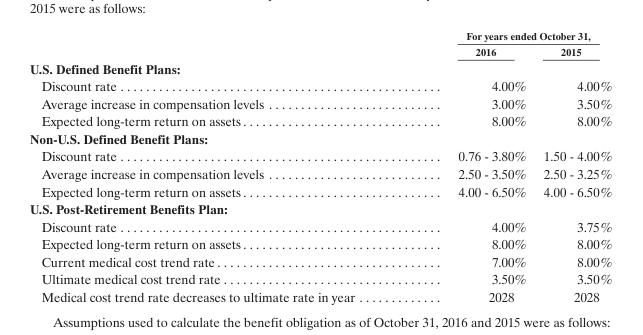table: (29, 28, 611, 304)
table column: (29, 28, 405, 304), (405, 28, 534, 304), (534, 28, 611, 304)
table column header: (29, 28, 611, 58)
table projected row header: (29, 58, 611, 76), (29, 129, 611, 146), (29, 199, 611, 216)
table row: (29, 58, 611, 76), (29, 93, 611, 111), (29, 111, 611, 129), (29, 146, 611, 164), (29, 181, 611, 199), (29, 216, 611, 234), (29, 251, 611, 269), (29, 269, 611, 287), (29, 76, 611, 93), (29, 129, 611, 146), (29, 164, 611, 181), (29, 199, 611, 216), (29, 234, 611, 251), (29, 287, 611, 304), (29, 28, 611, 43), (29, 43, 611, 58)
table spanning cell: (405, 28, 611, 43)
